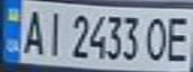2: (66, 9, 90, 60)
3: (121, 12, 145, 62), (106, 11, 127, 61)
4: (87, 11, 109, 61)
A: (18, 6, 48, 56)
E: (160, 12, 193, 63)
I: (42, 7, 69, 57)
O: (142, 12, 172, 63)
